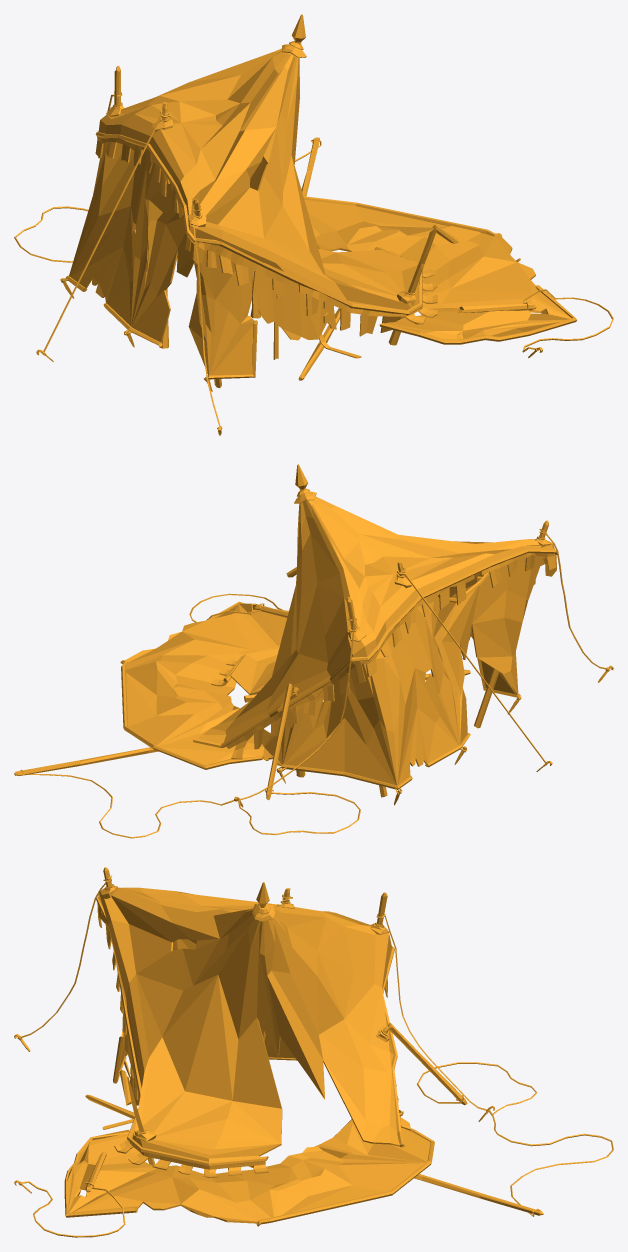
The model's file is SM_Tent_Angular_Striped_Destroyed_Fantasy.fbx.
3 renders of one model, top to bottom at view 1: azimuth 30°, elevation 25°; view 2: azimuth 150°, elevation 25°; view 3: azimuth 270°, elevation 25°, orthographic. The views are drawn at different scales.
Visible parts, largest first — view 1: tent-angular-striped-destroyed-fantasy; view 2: tent-angular-striped-destroyed-fantasy; view 3: tent-angular-striped-destroyed-fantasy.
Part boxes in pixels (x1,y1,x2,y2): tent-angular-striped-destroyed-fantasy: (14, 14, 613, 435); tent-angular-striped-destroyed-fantasy: (14, 464, 613, 838); tent-angular-striped-destroyed-fantasy: (14, 867, 613, 1237).
Bounding box in the file's own units: 8.81 × 5.21 × 10.11.
